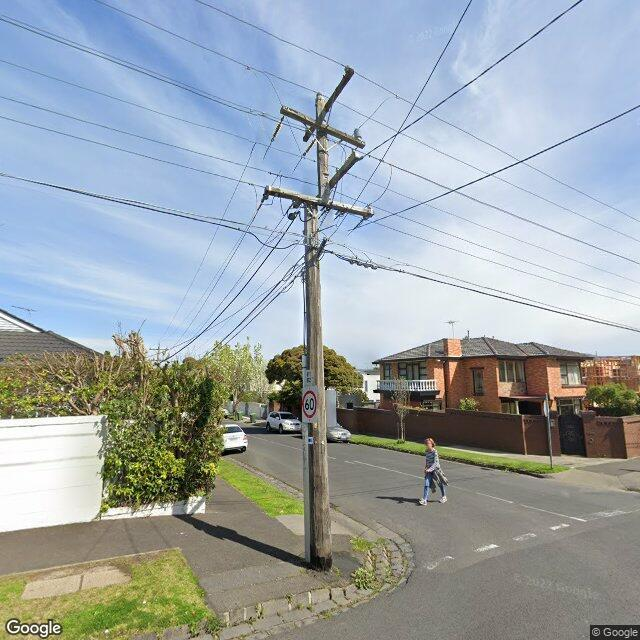HV-transmission: (271, 91, 361, 157), (305, 65, 350, 134)
crossarm: (280, 106, 366, 150), (303, 68, 354, 142), (264, 185, 374, 218), (316, 151, 361, 198), (149, 349, 169, 350)
timber-pole: (302, 92, 332, 572), (157, 344, 160, 366)
